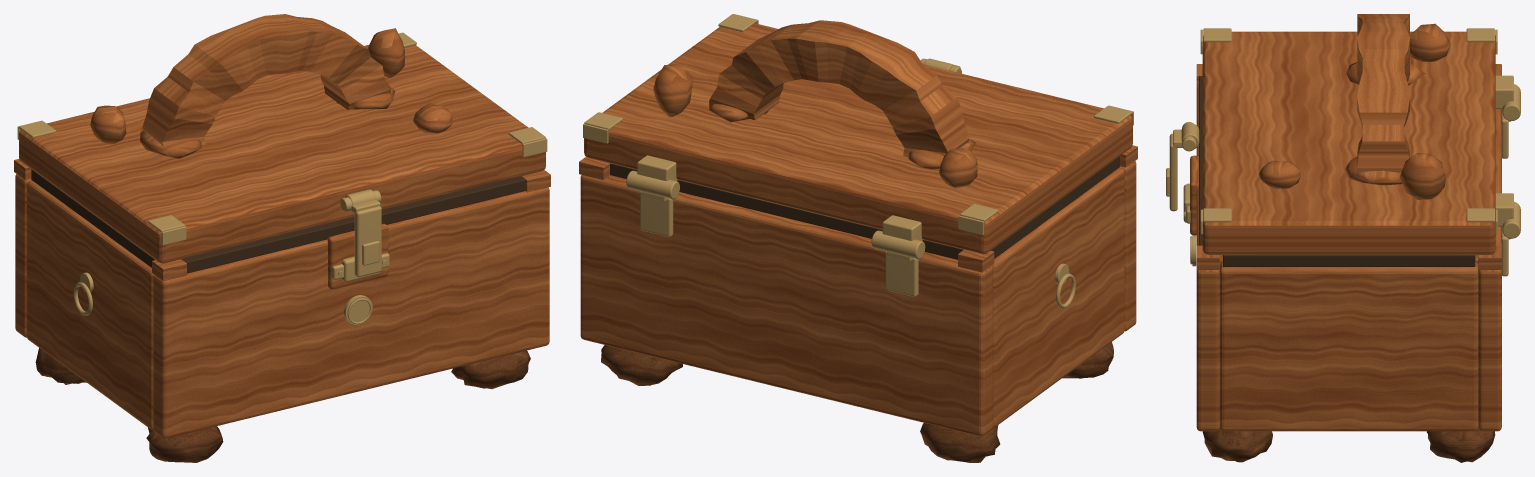
File: chad.glb
3 renders of one model, left to right at view 1: azimuth 30°, elevation 25°; view 2: azimuth 150°, elevation 25°; view 3: azimuth 270°, elevation 25°, orthographic. The views are drawn at different scales.
Parts seen in each view (by area): view 1: Sandstone / wall, Lid / polished slab, Sandstone / side, Ennedi / open wind arch, Mineral seam / long, Granite foot, Granite foot.002, Sandstone / wall.001, Latch / lifting hasp, Sandstone / clasp seat, Mineral seam / side, Ennedi / eroded piton.001 (+6 smaller); view 2: Sandstone / wall.001, Lid / polished slab, Sandstone / side, Ennedi / open wind arch, Mineral seam / long.001, Granite foot.001, Sandstone / wall, Granite foot.003, Ennedi / eroded piton.001, Mineral seam / side, Ennedi / eroded piton, Hinge / fixed mount.001 (+8 smaller); view 3: Lid / polished slab, Sandstone / side.001, Ennedi / open wind arch, Sandstone / wall.001, Sandstone / wall, Mineral seam / side.001, Granite foot.002, Granite foot.003, Ennedi / eroded piton.001, Ennedi / eroded piton, Ennedi / eroded piton.002, Ennedi / arch footing.001 (+14 smaller).
Boxes of the visible parts, left/top/right/bottom form: Sandstone / wall: left=153, top=187, right=549, bottom=438; Lid / polished slab: left=19, top=45, right=545, bottom=263; Sandstone / side: left=27, top=180, right=153, bottom=430; Ennedi / open wind arch: left=142, top=14, right=391, bottom=146; Mineral seam / long: left=181, top=176, right=525, bottom=273; Granite foot: left=146, top=426, right=223, bottom=462; Granite foot.002: left=451, top=350, right=530, bottom=389; Sandstone / wall.001: left=15, top=174, right=31, bottom=337; Latch / lifting hasp: left=354, top=206, right=381, bottom=277; Sandstone / clasp seat: left=327, top=223, right=388, bottom=289; Mineral seam / side: left=31, top=169, right=154, bottom=267; Ennedi / eroded piton.001: left=367, top=28, right=404, bottom=77; Sandstone / wall.001: left=580, top=175, right=992, bottom=436; Lid / polished slab: left=584, top=23, right=1132, bottom=254; Sandstone / side: left=992, top=167, right=1124, bottom=427; Ennedi / open wind arch: left=710, top=20, right=969, bottom=156; Mineral seam / long.001: left=610, top=163, right=963, bottom=259; Granite foot.001: left=920, top=423, right=1000, bottom=462; Sandstone / wall: left=1119, top=161, right=1136, bottom=331; Granite foot.003: left=601, top=345, right=682, bottom=385; Ennedi / eroded piton.001: left=653, top=63, right=693, bottom=117; Mineral seam / side: left=991, top=156, right=1119, bottom=258; Ennedi / eroded piton: left=939, top=147, right=977, bottom=188; Hinge / fixed mount.001: left=640, top=191, right=673, bottom=236; Lid / polished slab: left=1202, top=31, right=1495, bottom=254; Sandstone / side.001: left=1220, top=262, right=1478, bottom=431; Ennedi / open wind arch: left=1357, top=14, right=1409, bottom=172; Sandstone / wall.001: left=1478, top=109, right=1501, bottom=431; Sandstone / wall: left=1196, top=88, right=1219, bottom=431; Mineral seam / side.001: left=1223, top=255, right=1475, bottom=266; Granite foot.002: left=1202, top=429, right=1272, bottom=462; Granite foot.003: left=1427, top=429, right=1495, bottom=462; Ennedi / eroded piton.001: left=1399, top=153, right=1445, bottom=199; Ennedi / eroded piton: left=1410, top=23, right=1450, bottom=61; Ennedi / eroded piton.002: left=1258, top=160, right=1300, bottom=188; Ennedi / arch footing.001: left=1345, top=156, right=1402, bottom=185.
Bounding box in the file's own units: 3.79 × 3.15 × 2.88.
4 materials, 2 textured.
